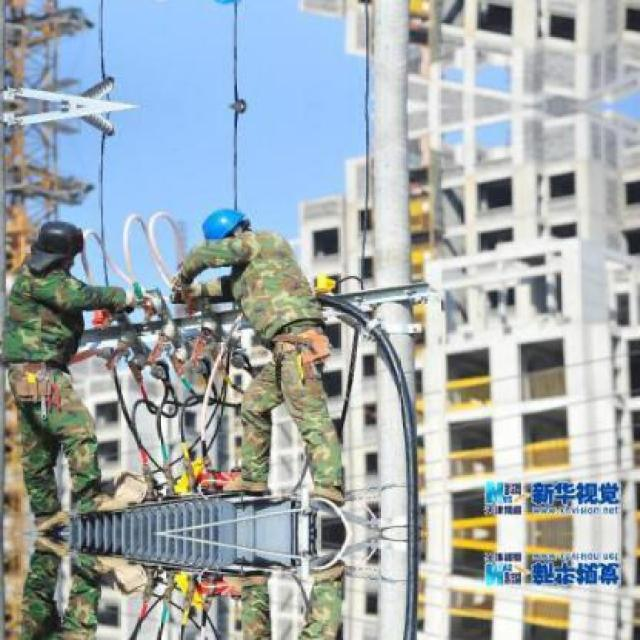helmet: (189, 194, 260, 253), (29, 214, 97, 268)
